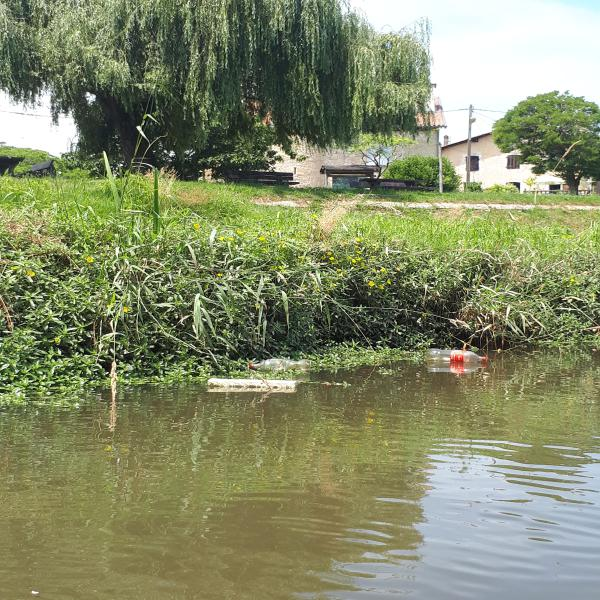bottles: (424, 346, 495, 370), (242, 355, 311, 375)
others: (196, 373, 305, 393)
